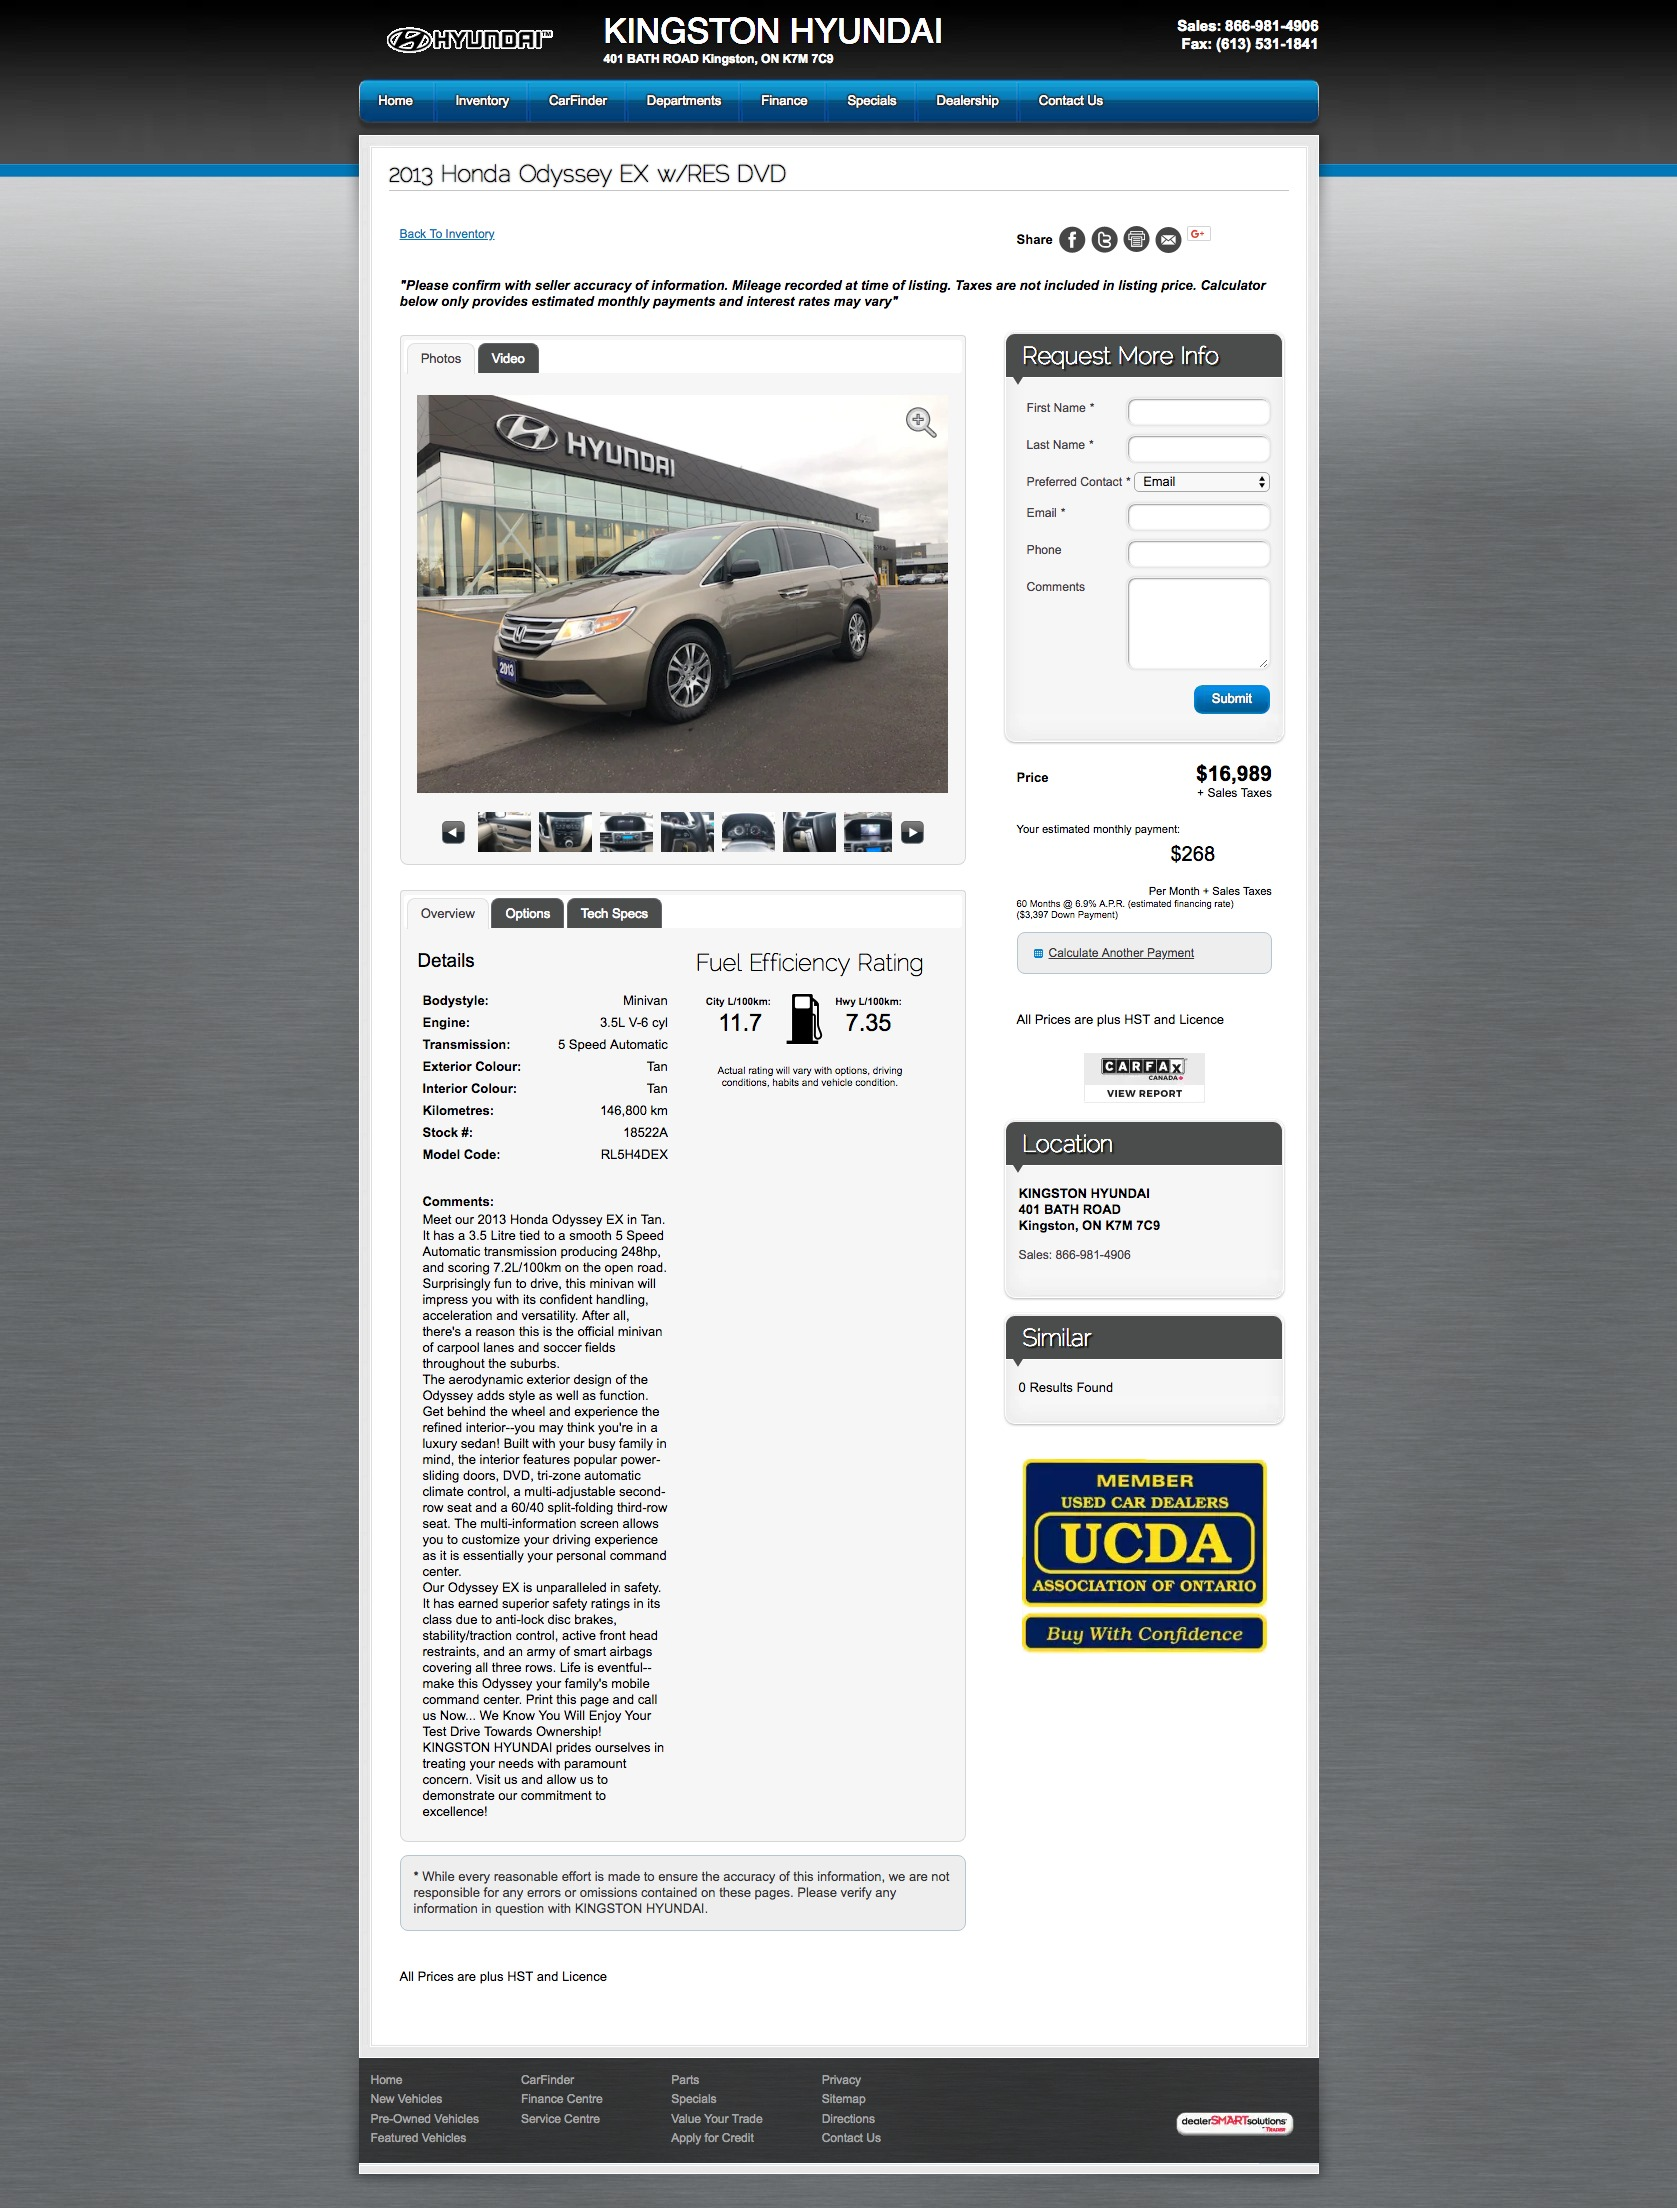car: (909, 828, 920, 838)
